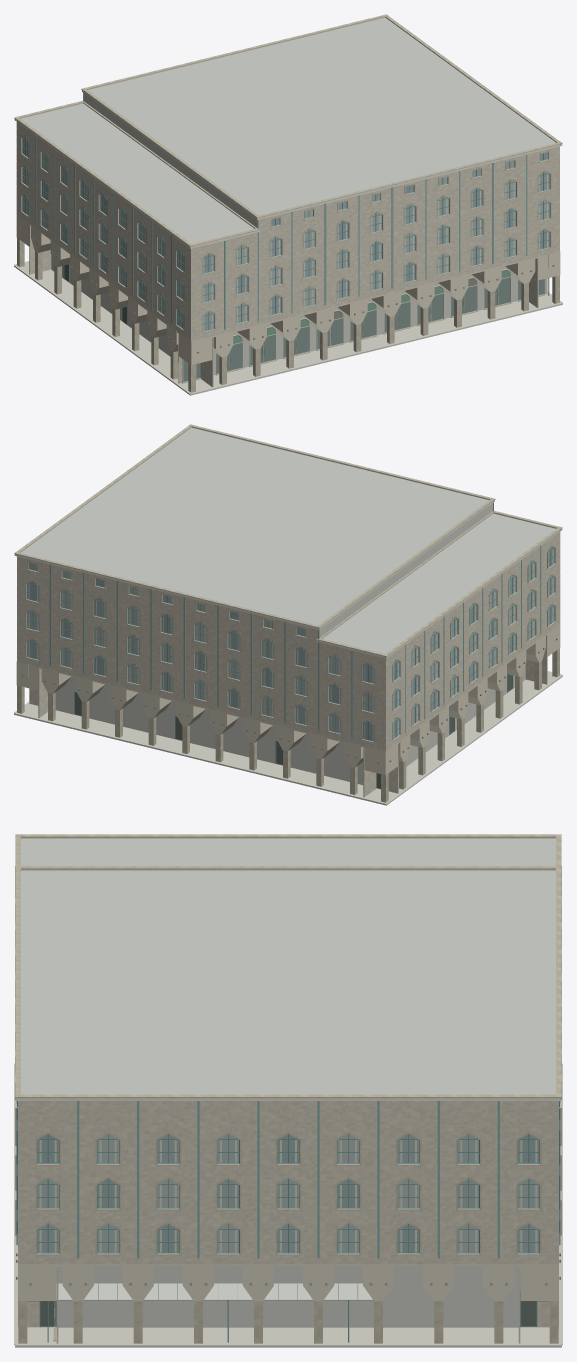
3 renders of one model, top to bottom at view 1: azimuth 30°, elevation 25°; view 2: azimuth 150°, elevation 25°; view 3: azimuth 270°, elevation 25°, orthographic. The views are drawn at different scales.
Visible parts, largest first — view 1: StoneBuilding - main flat roof slab, StoneBuilding - front fine limestone facade, StoneBuilding - left fine limestone facade, StoneBuilding - lower end flat roof slab, StoneBuilding - front arcade deep splayed upper brackets, StoneBuilding - ground floor retail glazing, StoneBuilding - front arcade floor paving, StoneBuilding - left arcade deep splayed upper brackets, StoneBuilding - ground floor inset enclosed core, StoneBuilding - roof end cornice top edges, StoneBuilding - front roof band stone, StoneBuilding - left arcade floor paving (+29 smaller); view 2: StoneBuilding - main flat roof slab, StoneBuilding - back fine limestone facade, StoneBuilding - left fine limestone facade, StoneBuilding - lower end flat roof slab, StoneBuilding - ground floor inset enclosed core, StoneBuilding - back arcade deep splayed upper brackets, StoneBuilding - back arcade floor paving, StoneBuilding - left arcade deep splayed upper brackets, StoneBuilding - roof end cornice top edges, StoneBuilding - back roof band stone, StoneBuilding - left arcade floor paving, StoneBuilding - back arcade pale lower pier (+27 smaller); view 3: StoneBuilding - main flat roof slab, StoneBuilding - right fine limestone facade, StoneBuilding - ground floor inset enclosed core, StoneBuilding - lower end flat roof slab, StoneBuilding - right arcade deep splayed upper brackets, StoneBuilding - right arcade floor paving, StoneBuilding - upper floors main stone body, StoneBuilding - roof end cornice top edges, StoneBuilding - right row 2 pointed windows gray-green glazi, StoneBuilding - right row 3 pointed windows gray-green glazi, StoneBuilding - right row 1 pointed windows gray-green glazi, StoneBuilding - right narrow teal vertical strips (+20 smaller).
Boxes of the visible parts, box(x1,y1,x2,y2) form: StoneBuilding - main flat roof slab: box(88, 17, 555, 215); StoneBuilding - front fine limestone facade: box(191, 157, 559, 341); StoneBuilding - left fine limestone facade: box(16, 122, 190, 340); StoneBuilding - lower end flat roof slab: box(21, 103, 254, 243); StoneBuilding - front arcade deep splayed upper brackets: box(179, 251, 559, 365); StoneBuilding - ground floor retail glazing: box(183, 276, 544, 381); StoneBuilding - front arcade floor paving: box(180, 301, 562, 394); StoneBuilding - left arcade deep splayed upper brackets: box(16, 214, 212, 364); StoneBuilding - ground floor inset enclosed core: box(51, 256, 517, 374); StoneBuilding - roof end cornice top edges: box(16, 15, 561, 245); StoneBuilding - front roof band stone: box(259, 146, 559, 230); StoneBuilding - left arcade floor paving: box(14, 261, 202, 394); StoneBuilding - main flat roof slab: box(21, 427, 488, 625); StoneBuilding - back fine limestone facade: box(17, 567, 385, 751); StoneBuilding - left fine limestone facade: box(386, 532, 560, 750); StoneBuilding - lower end flat roof slab: box(322, 513, 555, 653); StoneBuilding - ground floor inset enclosed core: box(55, 666, 525, 788); StoneBuilding - back arcade deep splayed upper brackets: box(17, 661, 397, 775); StoneBuilding - back arcade floor paving: box(14, 710, 397, 804); StoneBuilding - left arcade deep splayed upper brackets: box(364, 624, 560, 774); StoneBuilding - roof end cornice top edges: box(14, 424, 560, 655); StoneBuilding - back roof band stone: box(17, 556, 317, 640); StoneBuilding - left arcade floor paving: box(370, 671, 562, 804); StoneBuilding - back arcade pale lower pier: box(22, 686, 388, 802); StoneBuilding - main flat roof slab: box(21, 870, 555, 1094); StoneBuilding - right fine limestone facade: box(18, 1101, 558, 1264); StoneBuilding - ground floor inset enclosed core: box(56, 1266, 520, 1327); StoneBuilding - lower end flat roof slab: box(21, 838, 555, 865); StoneBuilding - right arcade deep splayed upper brackets: box(18, 1264, 558, 1301); StoneBuilding - right arcade floor paving: box(16, 1327, 560, 1345); StoneBuilding - upper floors main stone body: box(18, 1101, 558, 1263); StoneBuilding - roof end cornice top edges: box(15, 834, 561, 1098); StoneBuilding - right row 2 pointed windows gray-green glazi: box(37, 1179, 539, 1208); StoneBuilding - right row 3 pointed windows gray-green glazi: box(37, 1134, 539, 1163); StoneBuilding - right row 1 pointed windows gray-green glazi: box(37, 1224, 539, 1252); StoneBuilding - right narrow teal vertical strips: box(77, 1101, 499, 1258).
Bounding box in the file's own units: 53.46 × 22.09 × 43.86.
Materials: 32 (8 with a texture image).
